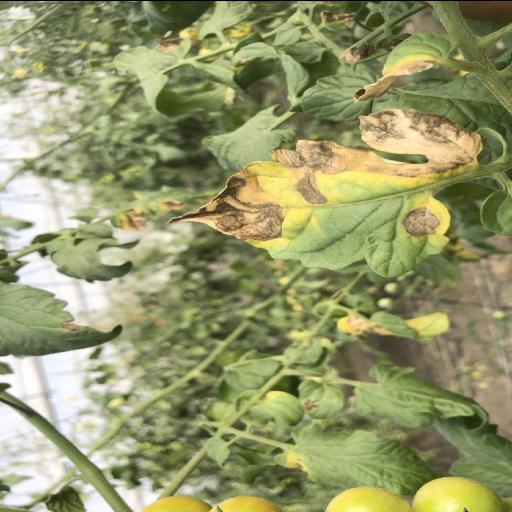disease_tomato: (166, 105, 484, 280)
